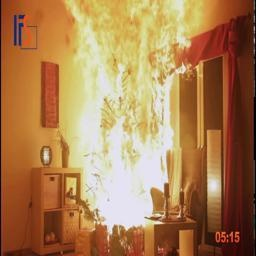fire: (53, 0, 196, 232)
